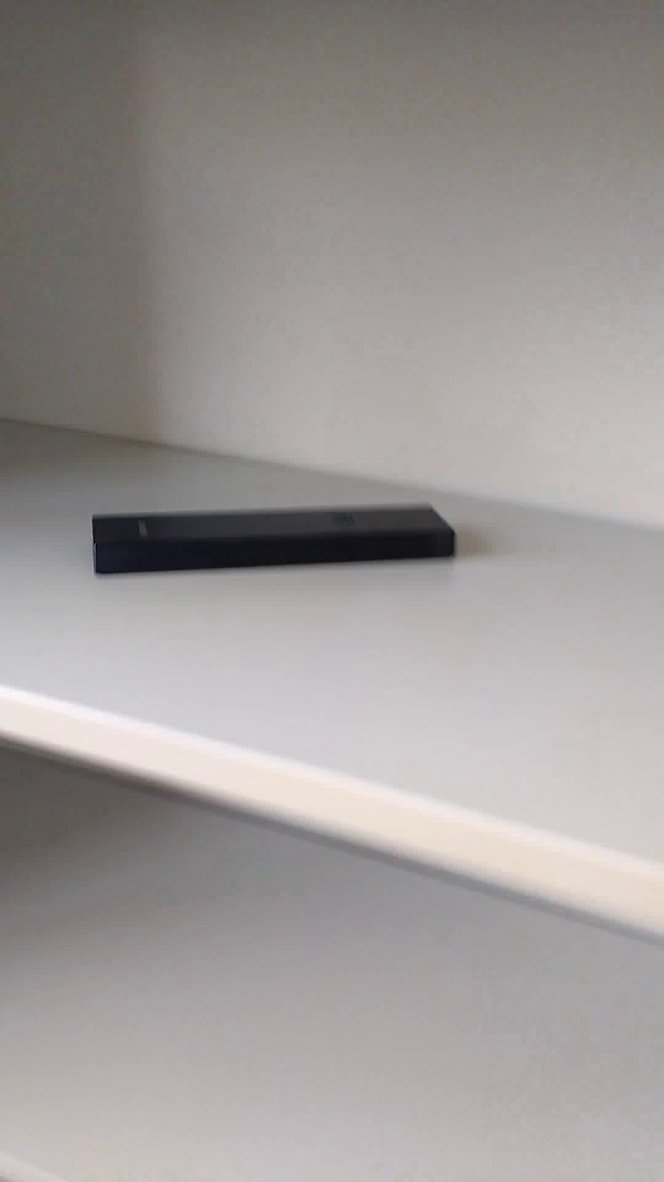remote: (79, 491, 476, 601)
